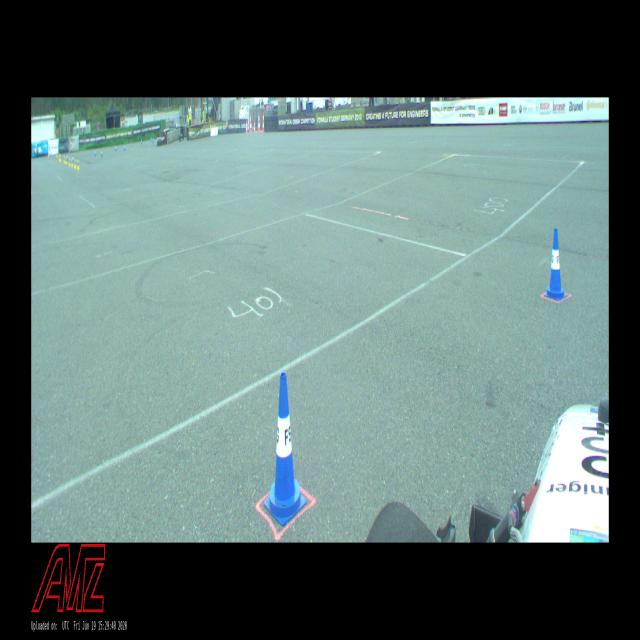blue_cone: (264, 372, 306, 526), (544, 228, 567, 301)
